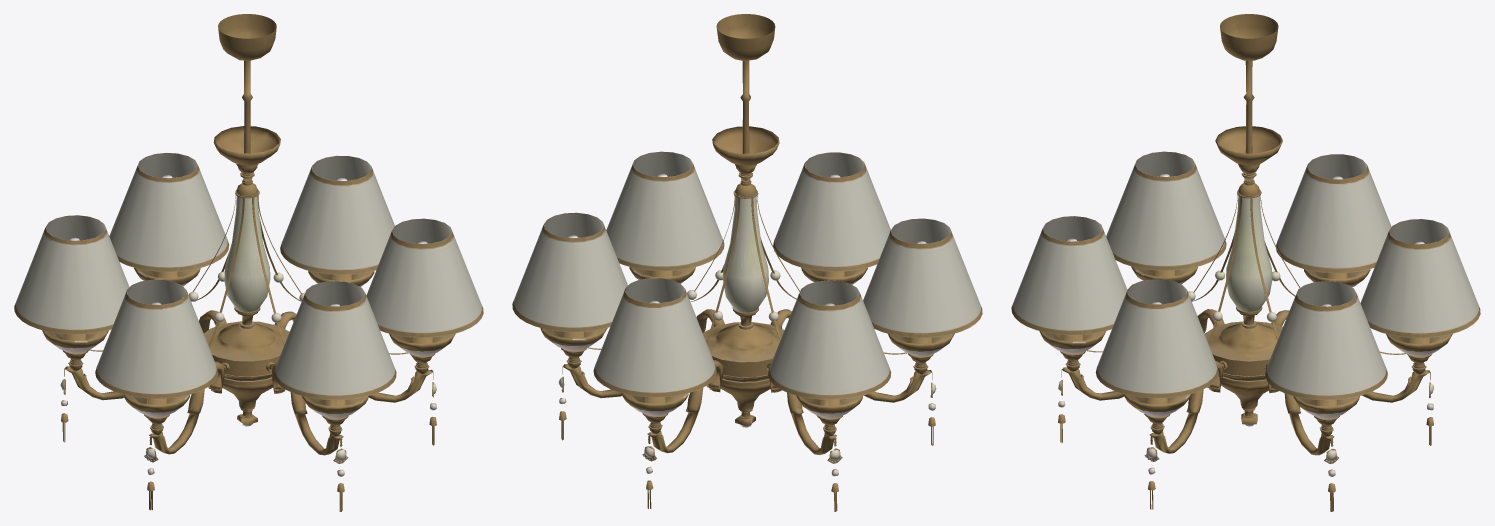
Rendered from Chandelier_01.glb.
The picture shows the model from 3 angles, left to right: view 1: azimuth 30°, elevation 25°; view 2: azimuth 150°, elevation 25°; view 3: azimuth 270°, elevation 25°; orthographic projection.
Visible parts, largest first — view 1: Chandelier_01; view 2: Chandelier_01; view 3: Chandelier_01.
Boxes of the visible parts, left/top/right/bottom form: Chandelier_01: left=14, top=14, right=483, bottom=511; Chandelier_01: left=512, top=14, right=982, bottom=511; Chandelier_01: left=1011, top=14, right=1480, bottom=511.
Size of the model in its own units: 0.7465 by 0.7982 by 0.8155.
2 materials, 1 textured.
